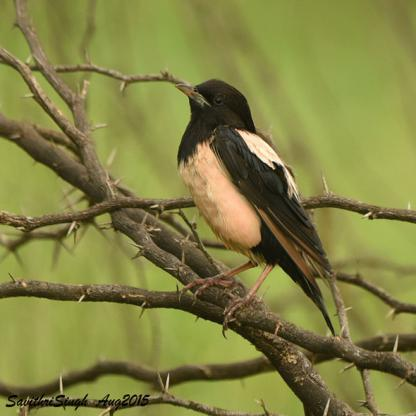Burung: (174, 77, 333, 340)
